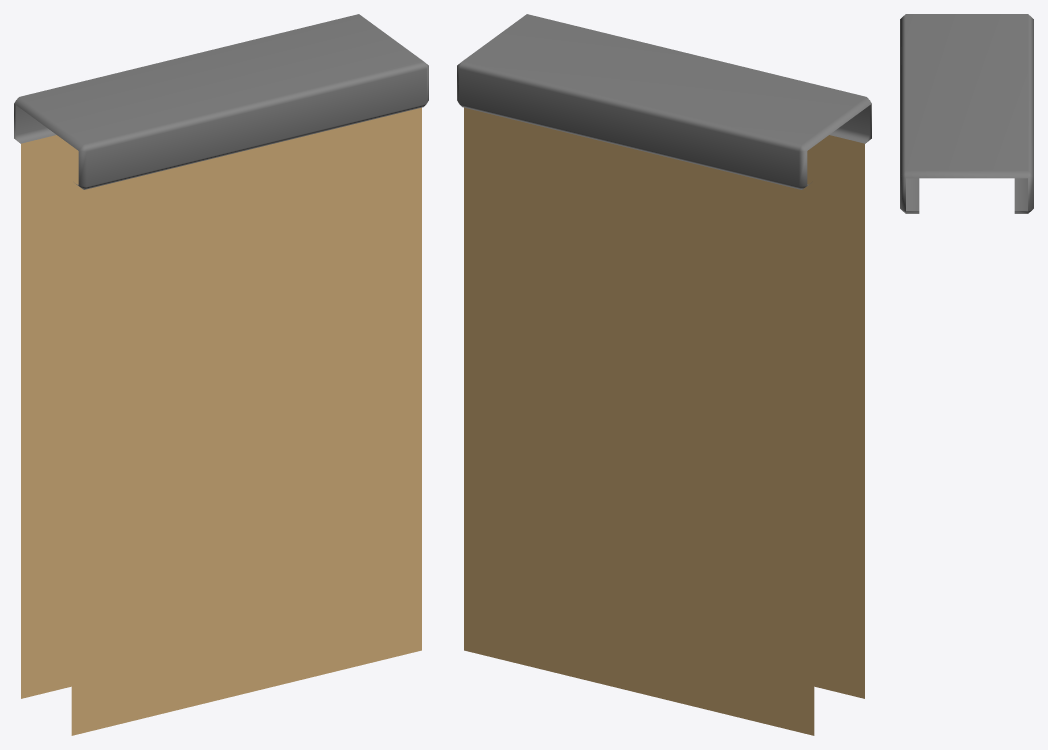
Rendered from SM_WallB_4x6_LOD1.fbx.
The picture shows the model from 3 angles, left to right: view 1: azimuth 30°, elevation 25°; view 2: azimuth 150°, elevation 25°; view 3: azimuth 270°, elevation 25°; orthographic projection. The views are drawn at different scales.
Parts seen in each view (by area): view 1: SM_WallB_4x6_LOD1; view 2: SM_WallB_4x6_LOD1; view 3: SM_WallB_4x6_LOD1.
Part boxes in pixels (box(x1,y1,x2,y2)): SM_WallB_4x6_LOD1: box(14, 14, 428, 735); SM_WallB_4x6_LOD1: box(457, 14, 871, 735); SM_WallB_4x6_LOD1: box(900, 14, 1033, 213).
Size of the model in its own units: 4 by 6.5 by 1.4.
